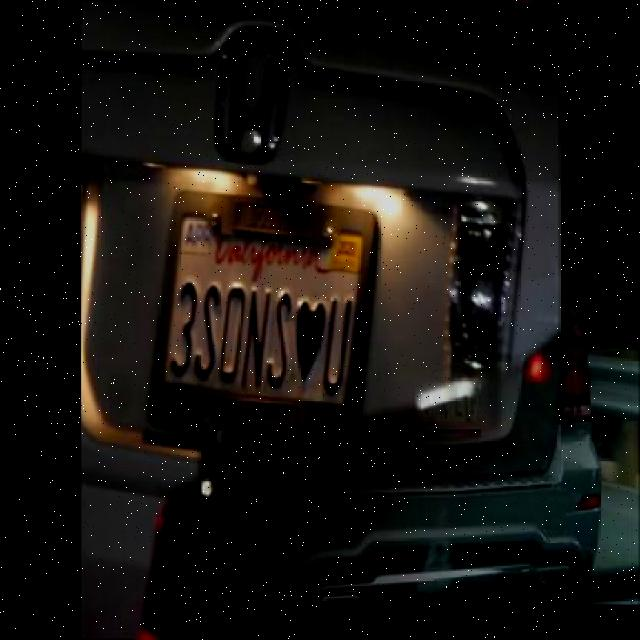licenseplate: (151, 194, 363, 437)
